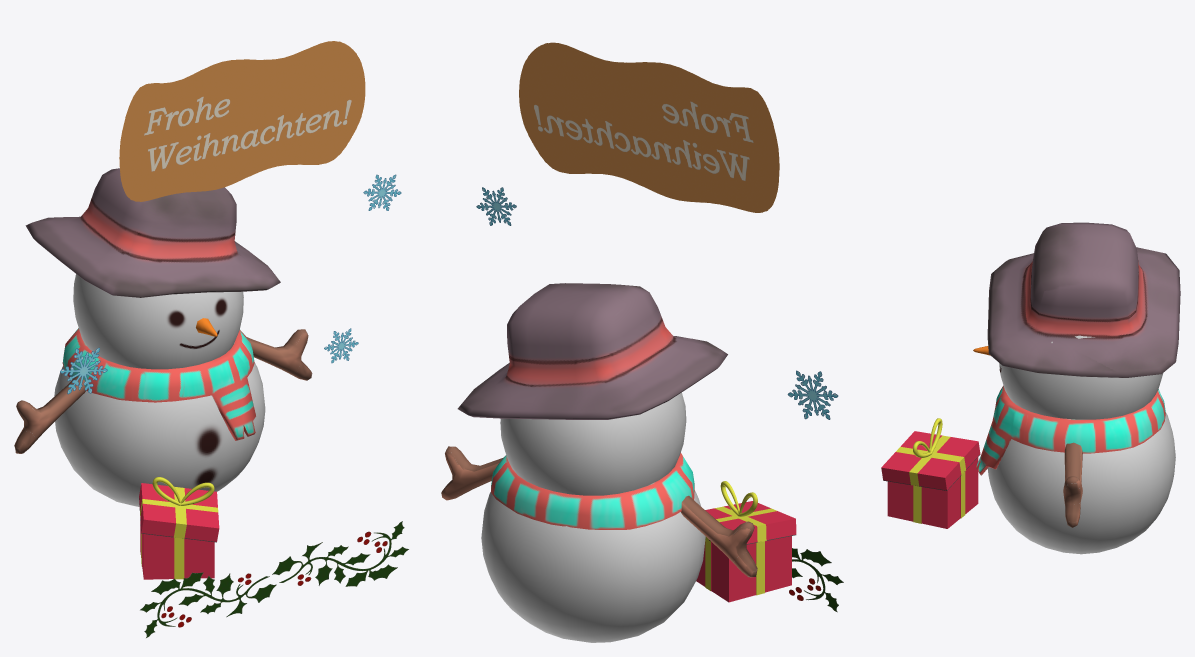
The model's file is bonecoNeve.glb.
3 renders of one model, left to right at view 1: azimuth 30°, elevation 25°; view 2: azimuth 150°, elevation 25°; view 3: azimuth 270°, elevation 25°, orthographic. The views are drawn at different scales.
Visible parts, largest first — view 1: Plane.005, chapeu.001, corpo, cabeca, chale.001, ramo, Cube.001, Cube, bracoD, bracoL, estrela3.001, estrela3.003; view 2: Plane.005, chapeu.001, corpo, cabeca, chale.001, Cube, Cube.001, bracoD, bracoL, estrela3.001, ramo, estrela3.003; view 3: chapeu.001, corpo, chale.001, cabeca, Cube.001, Cube, bracoL.
Boxes of the visible parts, <box> form: Plane.005: <box>119,41,365,201</box>; chapeu.001: <box>25,168,280,297</box>; corpo: <box>54,343,265,506</box>; cabeca: <box>73,274,243,369</box>; chale.001: <box>62,328,255,440</box>; ramo: <box>140,521,408,637</box>; Cube.001: <box>139,477,219,542</box>; Cube: <box>140,521,214,579</box>; bracoD: <box>14,376,85,453</box>; bracoL: <box>246,329,312,380</box>; estrela3.001: <box>60,347,107,394</box>; estrela3.003: <box>363,174,401,210</box>; Plane.005: <box>519,42,779,212</box>; chapeu.001: <box>457,283,727,419</box>; corpo: <box>481,490,705,642</box>; cabeca: <box>500,392,686,495</box>; chale.001: <box>491,452,694,529</box>; Cube: <box>696,536,791,602</box>; Cube.001: <box>705,481,796,544</box>; bracoD: <box>681,495,757,577</box>; bracoL: <box>441,446,502,500</box>; estrela3.001: <box>787,370,838,419</box>; ramo: <box>789,548,843,612</box>; estrela3.003: <box>476,187,516,225</box>; chapeu.001: <box>987,222,1180,377</box>; corpo: <box>987,413,1175,554</box>; chale.001: <box>976,385,1165,475</box>; cabeca: <box>999,335,1163,419</box>; Cube.001: <box>881,418,980,490</box>; Cube: <box>887,457,978,528</box>; bracoL: <box>1063,442,1082,527</box>.
Size of the model in its own units: 2.29 by 3.27 by 1.8.
8 materials, 5 textured.
